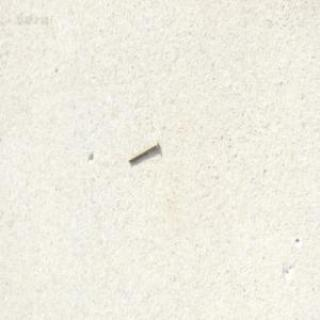Bolttrack_idkeyframe: (126, 138, 157, 162)
